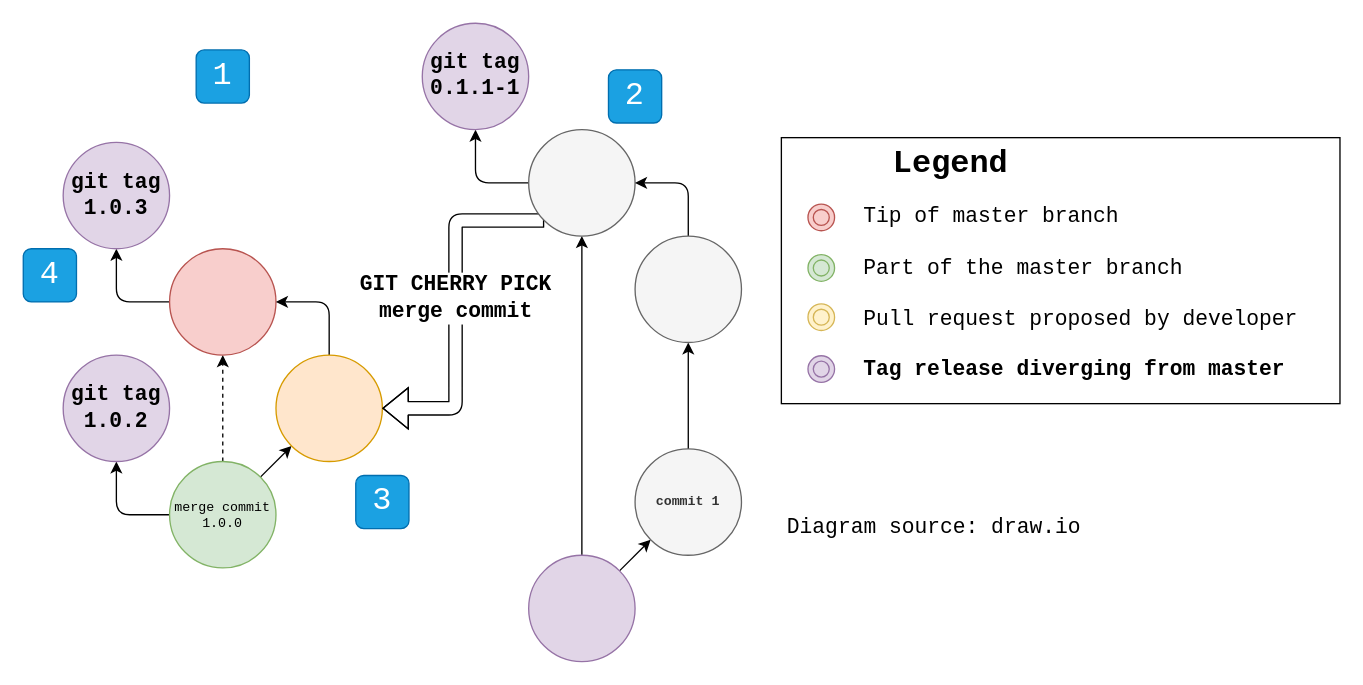
Some shapes in this 1363 by 685 pixel diagram are drawn without their labels. Each missing label, with the box of its shape:
commit 2: (634, 235, 741, 342)
git branch 0.1.1-hotfix version: 0.1.1: (527, 128, 635, 236)
git branch master 1.0.0: (168, 247, 276, 355)
git tag 1.0.1: (527, 554, 635, 662)
pull request hotfix ported to master: (275, 354, 382, 462)
